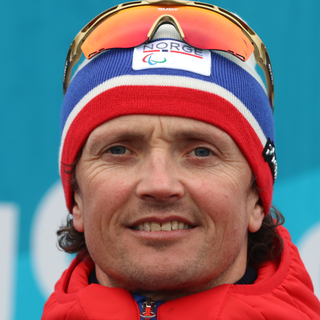eye: (180, 140, 226, 165), (97, 139, 143, 163)
